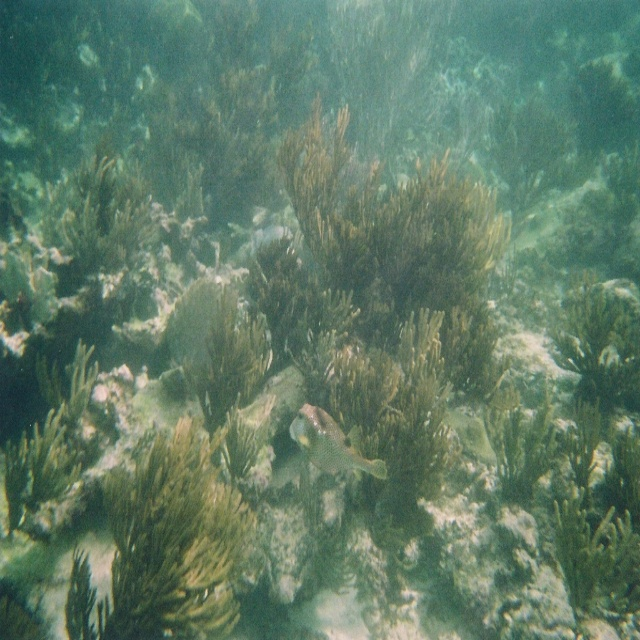Fish: (289, 403, 387, 479)
